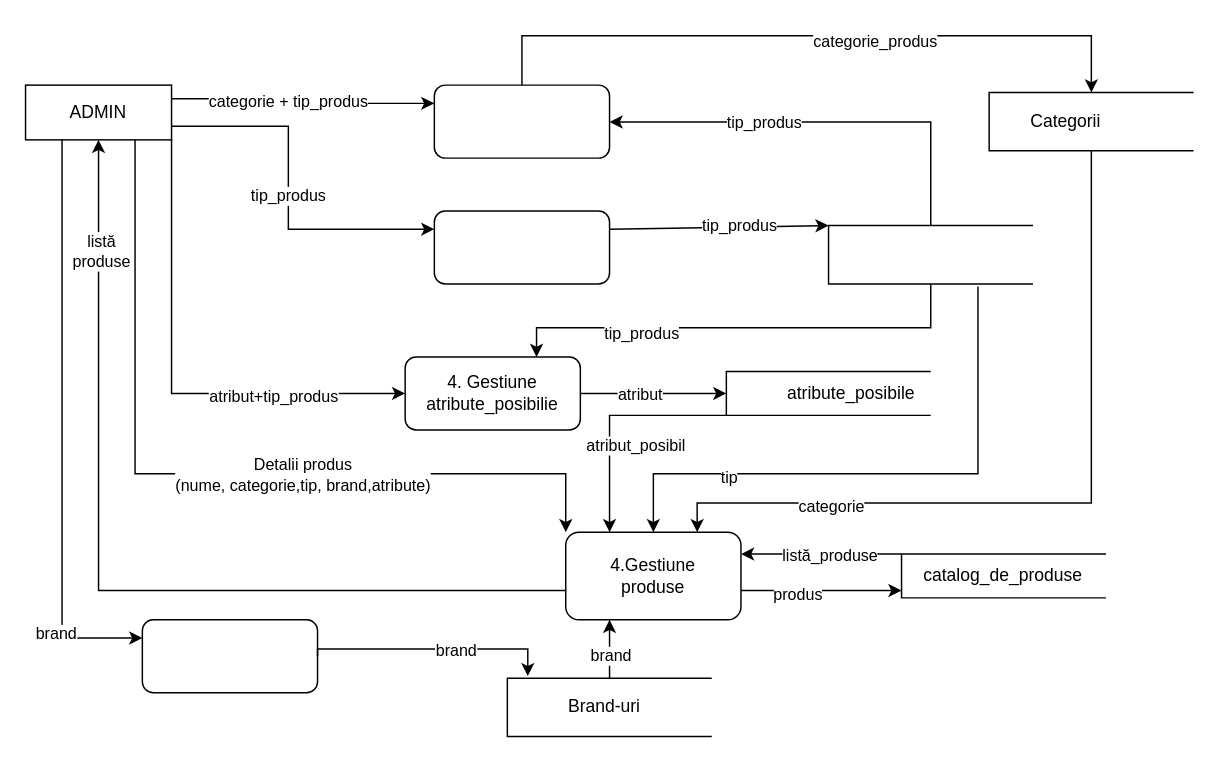
The diagram is 1219 pixels wide and 762 high, and some of its shapes have lost their labels. Here are the shapes that lost their labels. From the top down, the centre of each, then its label:
point (521, 121): 1. Gestiune categorii
point (521, 247): 2. Gestiune tipuri
point (930, 254): Tipuri
point (229, 655): 3. Gestionare brand-uri
